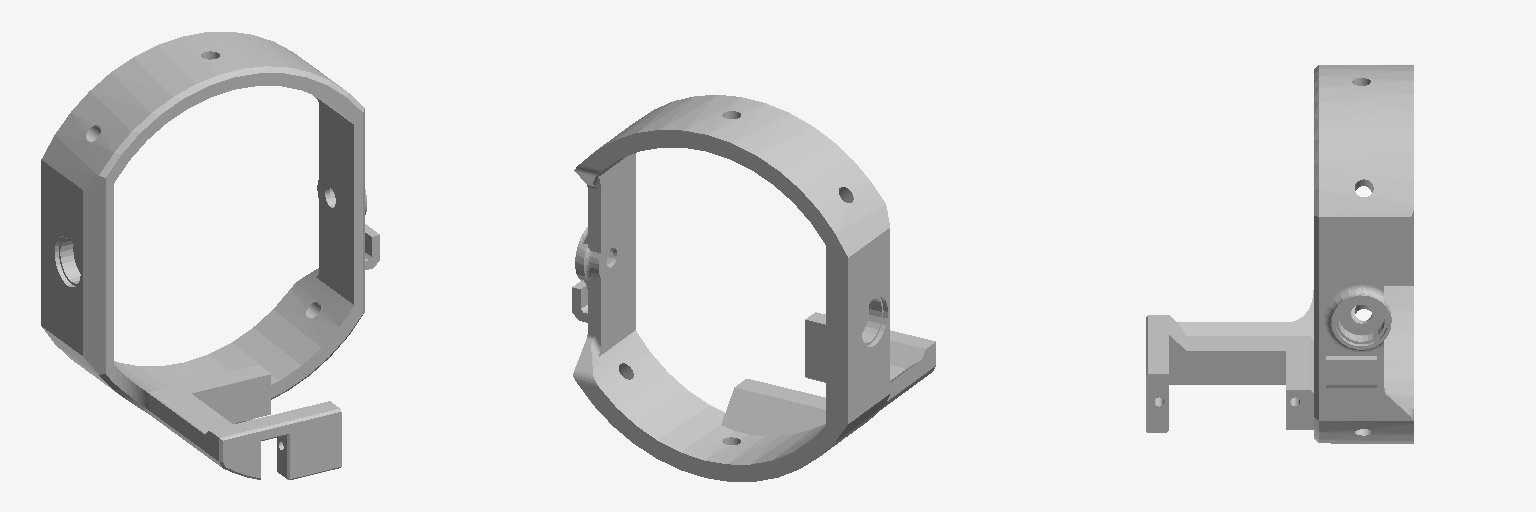
File: Outer Gimbal.obj
3 views of the same model, side by side, from view 1: azimuth 30°, elevation 25°; view 2: azimuth 150°, elevation 25°; view 3: azimuth 270°, elevation 25° (orthographic).
Parts seen in each view (by area): view 1: Body1; view 2: Body1; view 3: Body1.
Part boxes in pixels (left/top/right/bottom): Body1: left=41, top=32, right=379, bottom=479; Body1: left=572, top=95, right=935, bottom=481; Body1: left=1146, top=65, right=1413, bottom=443.
Bounding box in the file's own units: 6.79 × 7.55 × 5.35.